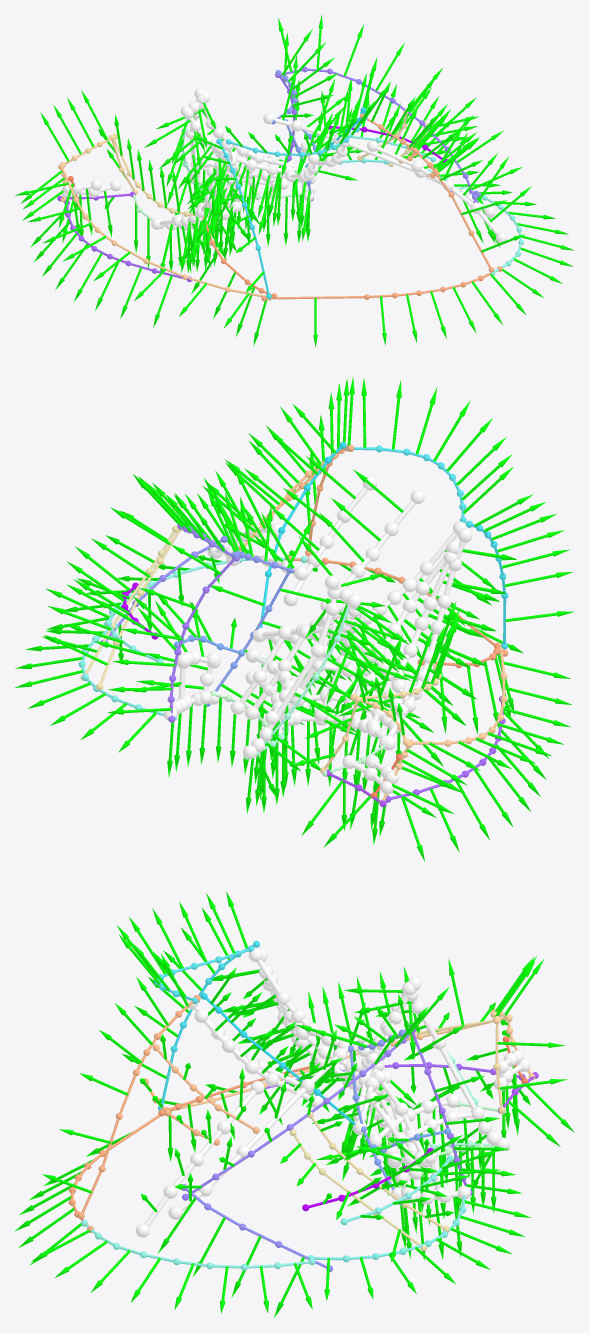
File: author1_building.gltf
3 views of the same model, one above another, from view 1: azimuth 30°, elevation 25°; view 2: azimuth 150°, elevation 25°; view 3: azimuth 270°, elevation 25° (orthographic). The views are drawn at different scales.
Bounding box in the file's own units: 0.8792 × 0.4626 × 0.7975.
